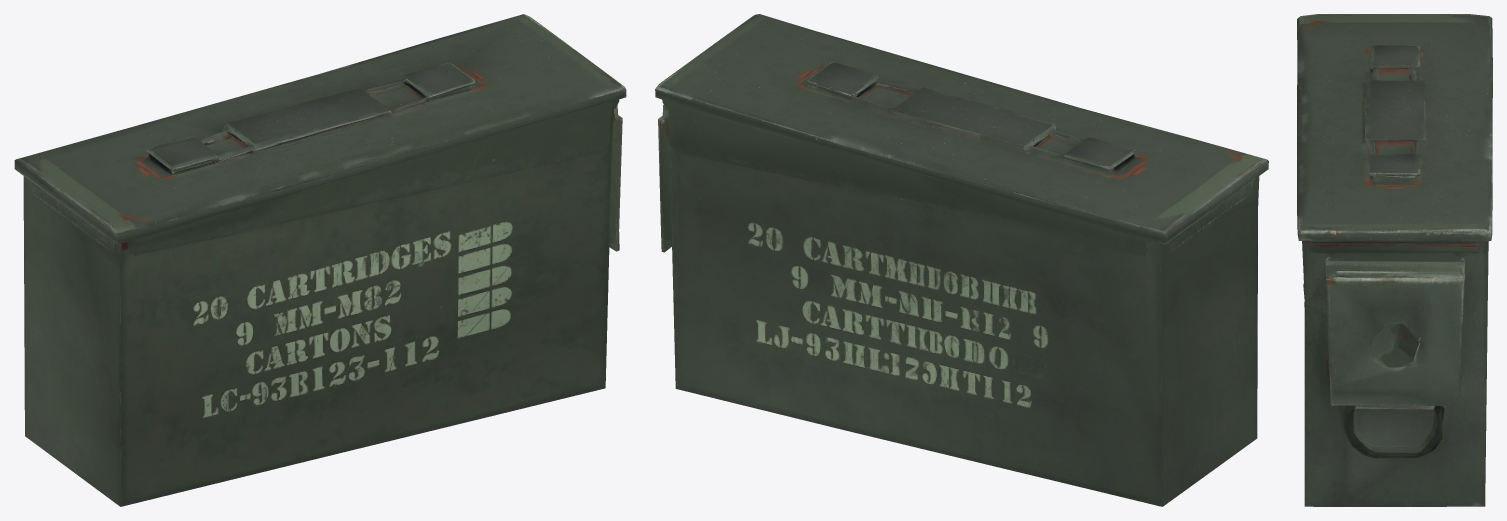
The model's file is pistol-ammo.glb.
The picture shows the model from 3 angles, left to right: view 1: azimuth 30°, elevation 25°; view 2: azimuth 150°, elevation 25°; view 3: azimuth 270°, elevation 25°; orthographic projection. The views are drawn at different scales.
Parts seen in each view (by area): view 1: Mesh_0; view 2: Mesh_0; view 3: Mesh_0.
Boxes of the visible parts, box(x1,y1,x2,y2) form: Mesh_0: box(14, 14, 626, 506); Mesh_0: box(655, 14, 1268, 506); Mesh_0: box(1297, 14, 1492, 506).
Size of the model in its own units: 1.91 by 1.07 by 0.6551.
1 material, 1 textured.
